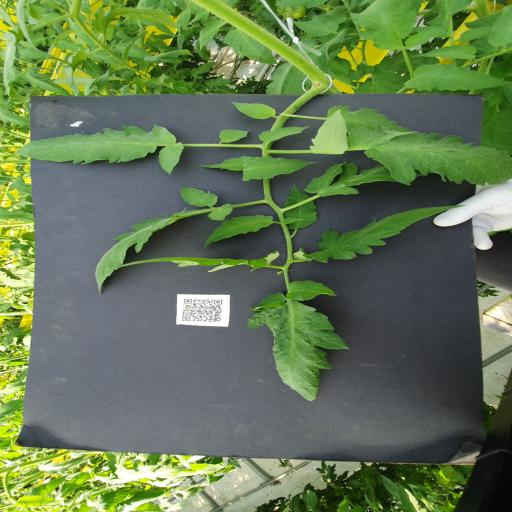Healthy: (245, 279, 350, 403), (341, 122, 512, 188), (294, 204, 468, 264), (94, 208, 199, 295), (14, 123, 184, 176), (115, 250, 281, 280), (303, 160, 398, 198), (350, 0, 418, 51), (403, 62, 512, 92), (91, 4, 180, 40), (202, 214, 274, 248), (222, 28, 280, 65), (243, 156, 321, 182), (308, 109, 349, 155), (20, 66, 72, 96), (286, 182, 318, 230), (410, 44, 478, 59), (230, 100, 278, 120), (30, 472, 69, 496), (405, 27, 447, 49), (258, 126, 311, 142), (198, 19, 225, 50), (292, 20, 340, 37), (178, 186, 218, 206), (200, 156, 244, 174), (0, 105, 30, 127), (189, 61, 220, 79), (206, 203, 234, 221), (219, 128, 249, 142), (206, 77, 233, 89), (0, 209, 28, 220)
